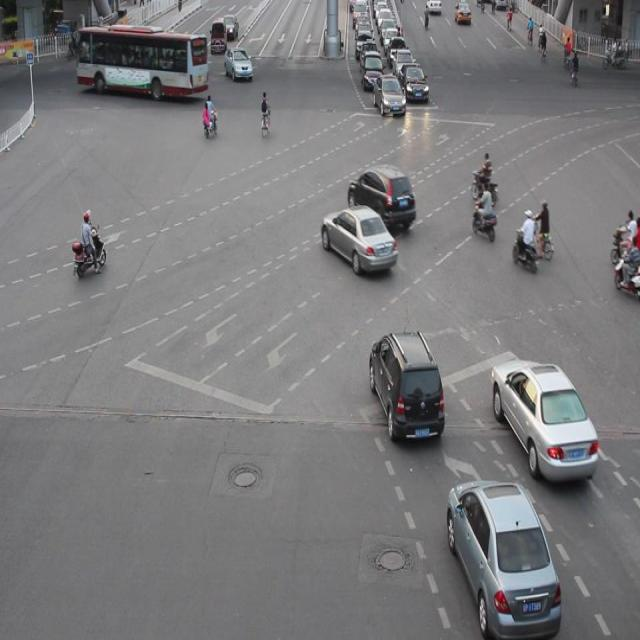car: (445, 475, 560, 640), (489, 354, 597, 483), (368, 328, 444, 444), (320, 205, 396, 273), (346, 165, 415, 230)
